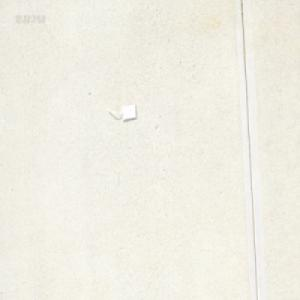LuggageTag: (105, 103, 137, 120)
